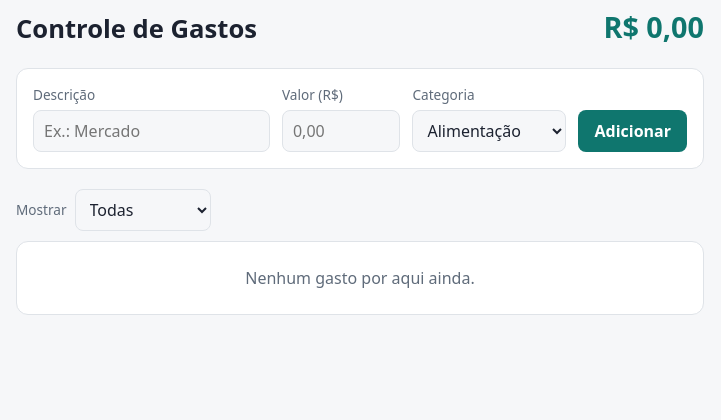
it: App › remove um gasto
Type "Cinema" into the field labelled "Descrição" at (152, 131), box x1=33 y1=110 x2=270 y2=152
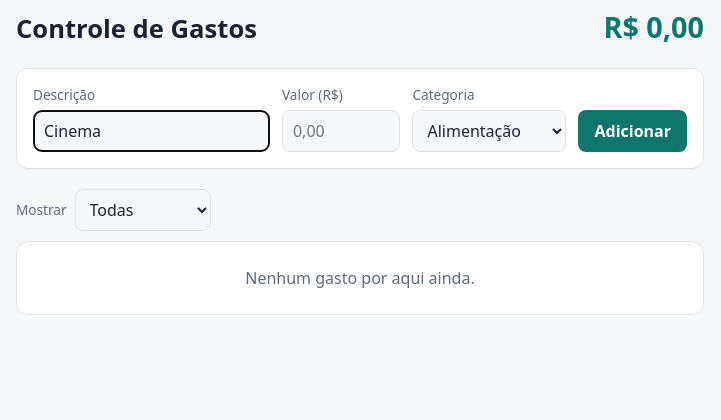
Type "40" into the field labelled "Valor (R$)" at (341, 131), box x1=282 y1=110 x2=400 y2=152
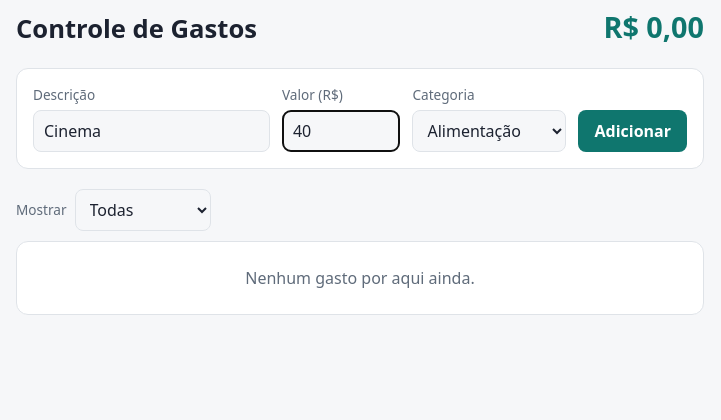
Click the button "Adicionar" at (633, 131), box x1=578 y1=110 x2=687 y2=152
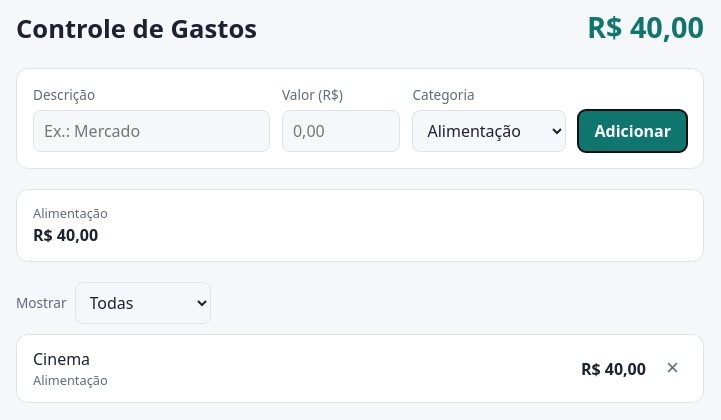
Click the button named "Remover Cinema" at (672, 369), box x1=658 y1=353 x2=687 y2=384
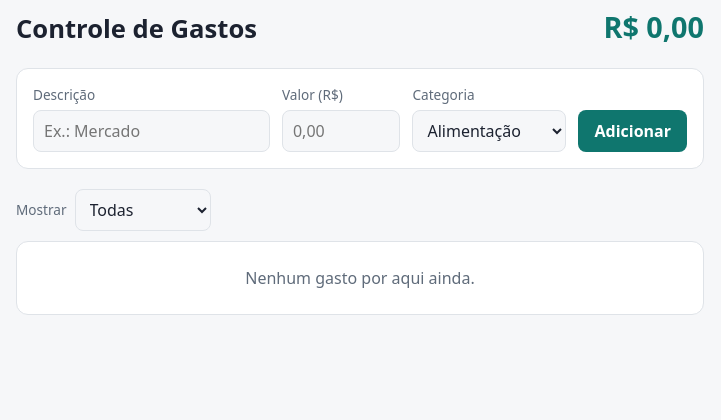
Expected: the text "Cinema" is gone
